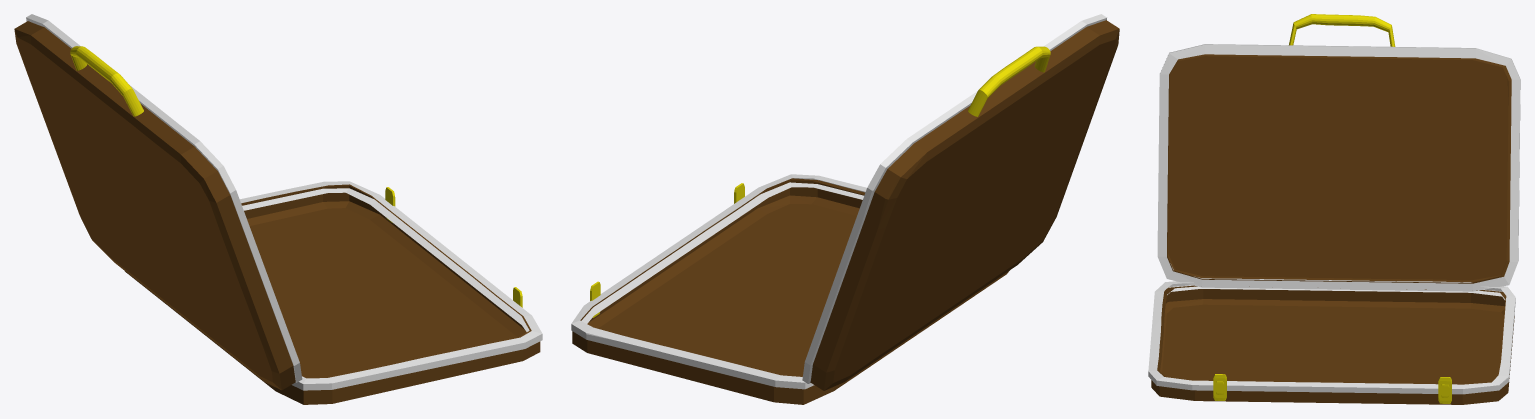
File: briefcase.fbx
3 views of the same model, side by side, from view 1: azimuth 30°, elevation 25°; view 2: azimuth 150°, elevation 25°; view 3: azimuth 270°, elevation 25° (orthographic). The views are drawn at different scales.
Parts seen in each view (by area): view 1: TopInterior, BottomInterior, Top, Bottom, BottomLip, TopLip, Handle; view 2: TopInterior, BottomInterior, Top, Bottom, BottomLip, TopLip, Handle; view 3: TopInterior, BottomInterior, Top, TopLip, Bottom, BottomLip, Handle, LeftClip, RightClip.
Part boxes in pixels (x1,y1,x2,y2): TopInterior: [14, 21, 295, 390]; BottomInterior: [125, 184, 540, 404]; Top: [15, 22, 295, 389]; Bottom: [125, 185, 539, 404]; BottomLip: [239, 181, 542, 390]; TopLip: [26, 14, 302, 382]; Handle: [70, 46, 143, 116]; TopInterior: [810, 20, 1119, 390]; BottomInterior: [572, 178, 1009, 404]; Top: [812, 21, 1119, 390]; Bottom: [572, 179, 1005, 404]; BottomLip: [571, 174, 866, 389]; TopLip: [802, 14, 1106, 383]; Handle: [968, 46, 1050, 116]; TopInterior: [1167, 54, 1511, 283]; BottomInterior: [1151, 285, 1514, 404]; Top: [1167, 54, 1511, 283]; TopLip: [1157, 44, 1520, 291]; Bottom: [1151, 285, 1513, 404]; BottomLip: [1148, 281, 1515, 394]; Handle: [1289, 14, 1395, 46]; LeftClip: [1213, 374, 1226, 400]; RightClip: [1438, 377, 1451, 403].
Size of the model in its own units: 105 by 82.52 by 112.
